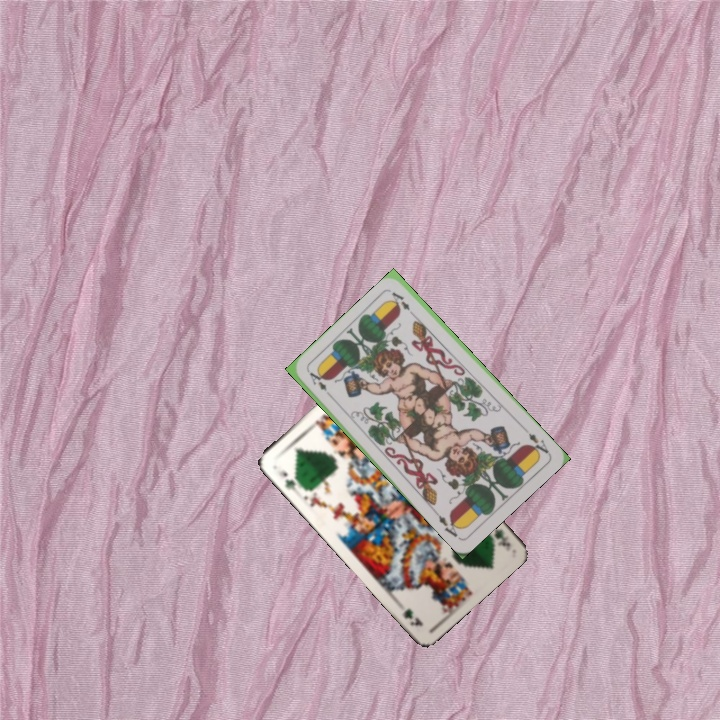EA: (520, 424, 551, 459), (305, 368, 335, 401)
GK: (274, 466, 303, 493), (490, 524, 513, 549)
